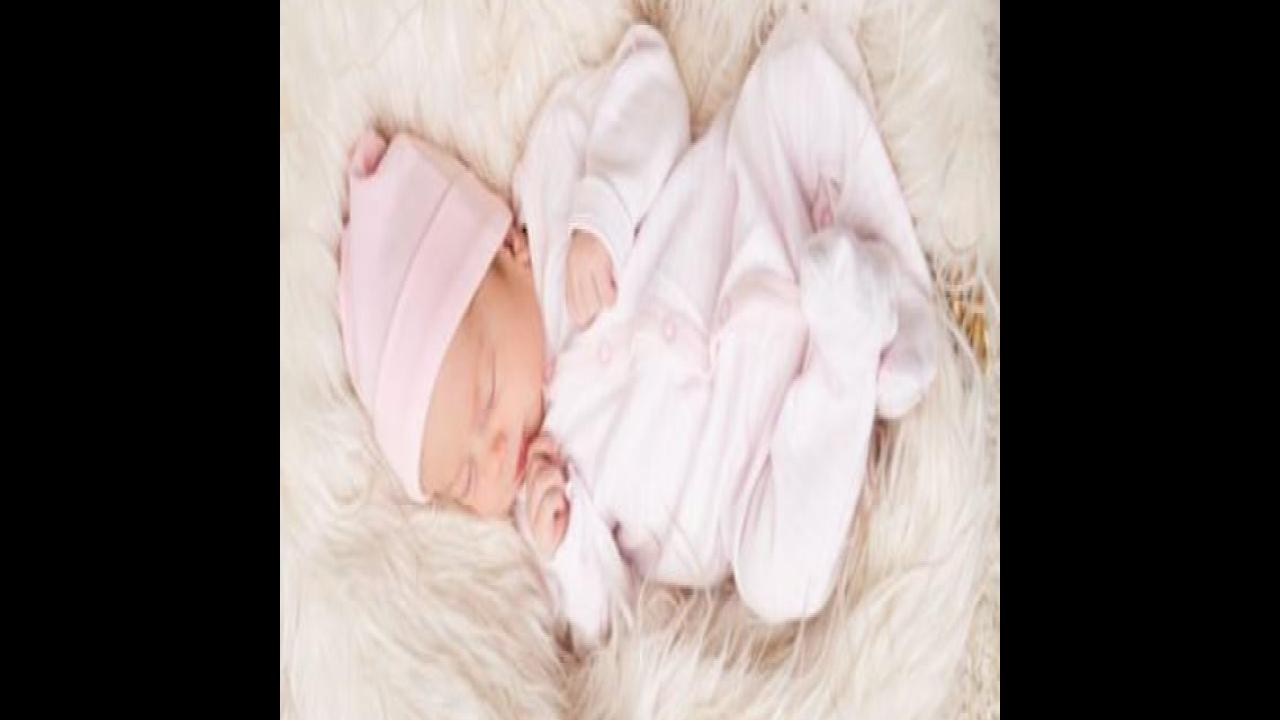hand: (563, 217, 620, 340), (518, 443, 572, 560)
